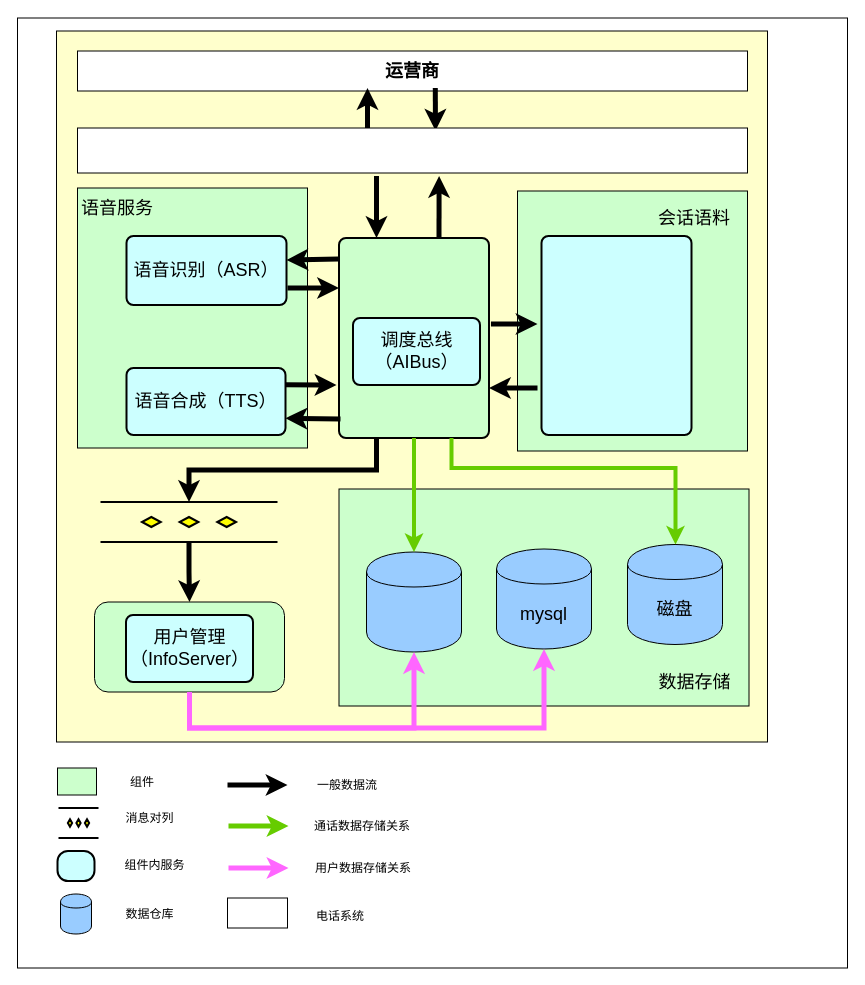
Image size: 865x985. Some labels were removed from this diagram. The shapes that lost their labels are listed below. From the top down, each one's centre as x and y in pixels, then its label:
point 412,150: 电话交换系统
point 616,335: 机器人（NLP）
point 188,521: 消息对列（RabbitMQ）
point 414,601: Mongo
